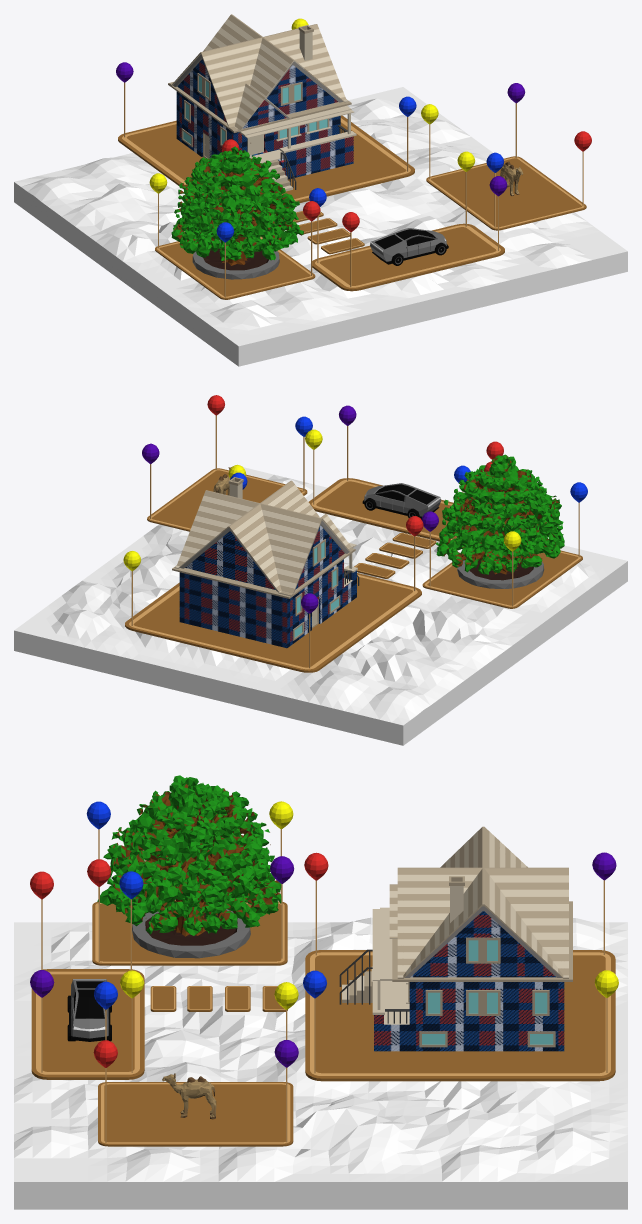
3 renders of one model, top to bottom at view 1: azimuth 30°, elevation 25°; view 2: azimuth 150°, elevation 25°; view 3: azimuth 270°, elevation 25°, orthographic. The views are drawn at different scales.
Visible parts, largest first — view 1: Cube.013, Cube.171, OBJRANDOM_CEIBA, VEHICLES_CYBERTRUCK; view 2: Cube.013, Cube.171, OBJRANDOM_CEIBA, VEHICLES_CYBERTRUCK; view 3: Cube.013, Cube.171, OBJRANDOM_CEIBA, VEHICLES_CYBERTRUCK, ANIMAL_CAMELLO.
Boxes of the visible parts, x1,y1,x2,y2 form: Cube.013: (14,18,627,366); Cube.171: (168,14,356,191); OBJRANDOM_CEIBA: (171,146,303,279); VEHICLES_CYBERTRUCK: (370,228,448,265); Cube.013: (14,395,627,745); Cube.171: (172,477,359,648); OBJRANDOM_CEIBA: (435,454,564,588); VEHICLES_CYBERTRUCK: (362,483,441,519); Cube.013: (14,801,627,1209); Cube.171: (339,826,572,1051); OBJRANDOM_CEIBA: (97,775,281,958); VEHICLES_CYBERTRUCK: (67,979,111,1041); ANIMAL_CAMELLO: (162,1073,216,1119).
Size of the model in its own units: 4000 by 1789 by 4000.
30 materials, 2 textured.
